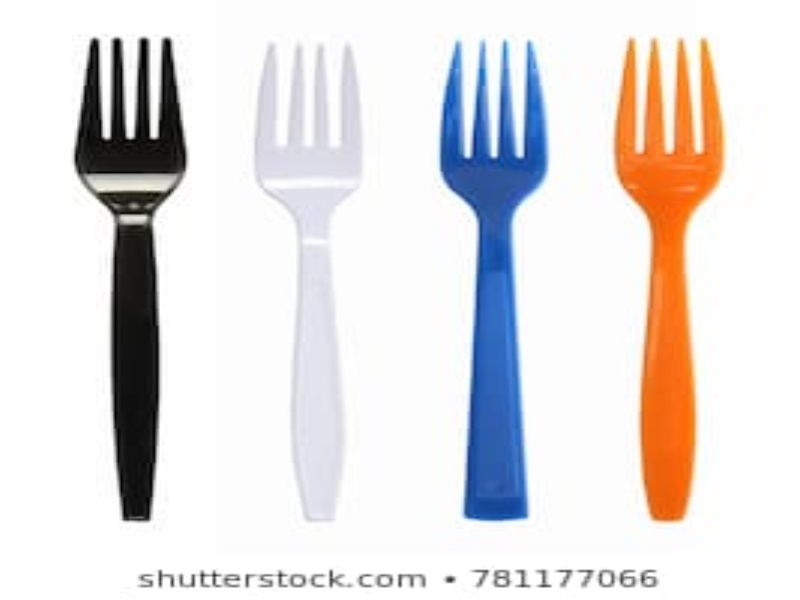plastic-silverware: (73, 34, 194, 524), (606, 33, 727, 523), (434, 31, 555, 521), (250, 36, 371, 526)
